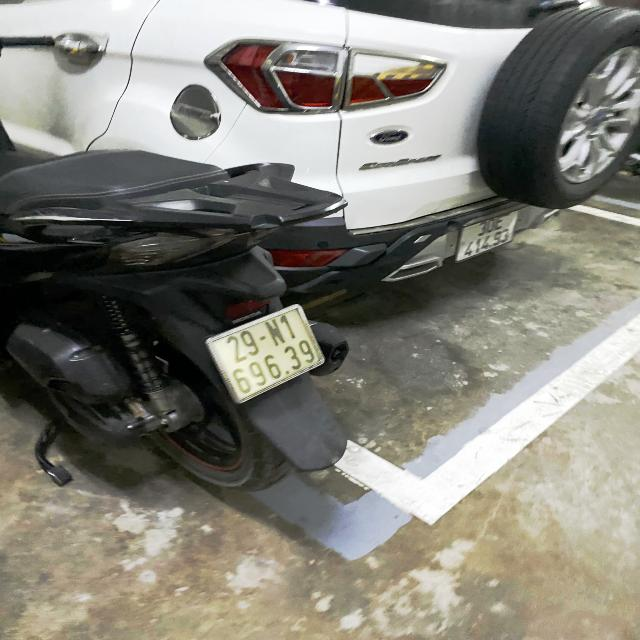license_plate: (196, 296, 335, 412), (456, 205, 525, 268)
